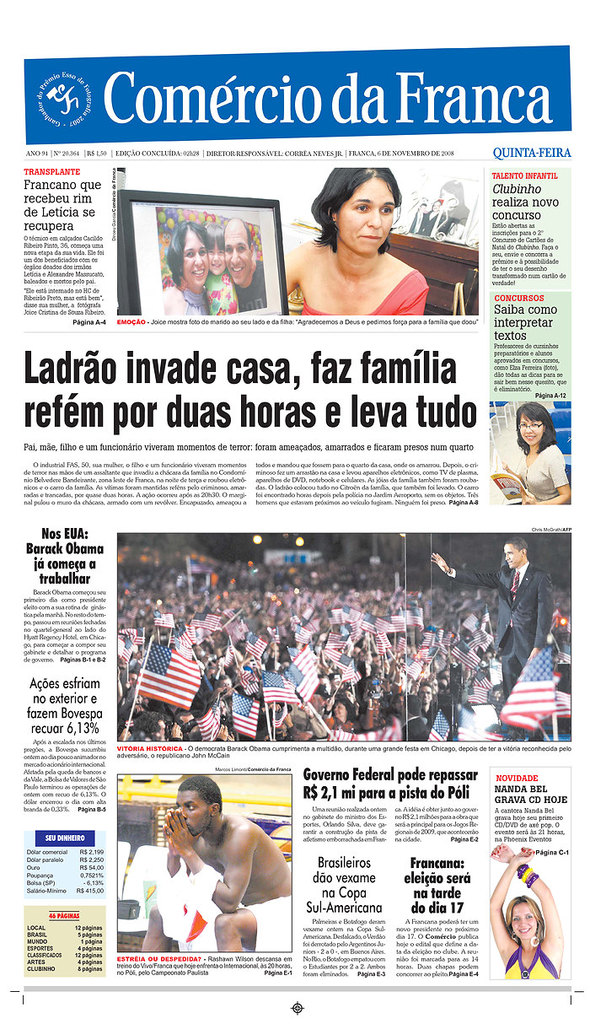Person: (112, 583, 504, 743), (431, 533, 556, 744), (159, 214, 268, 316)
